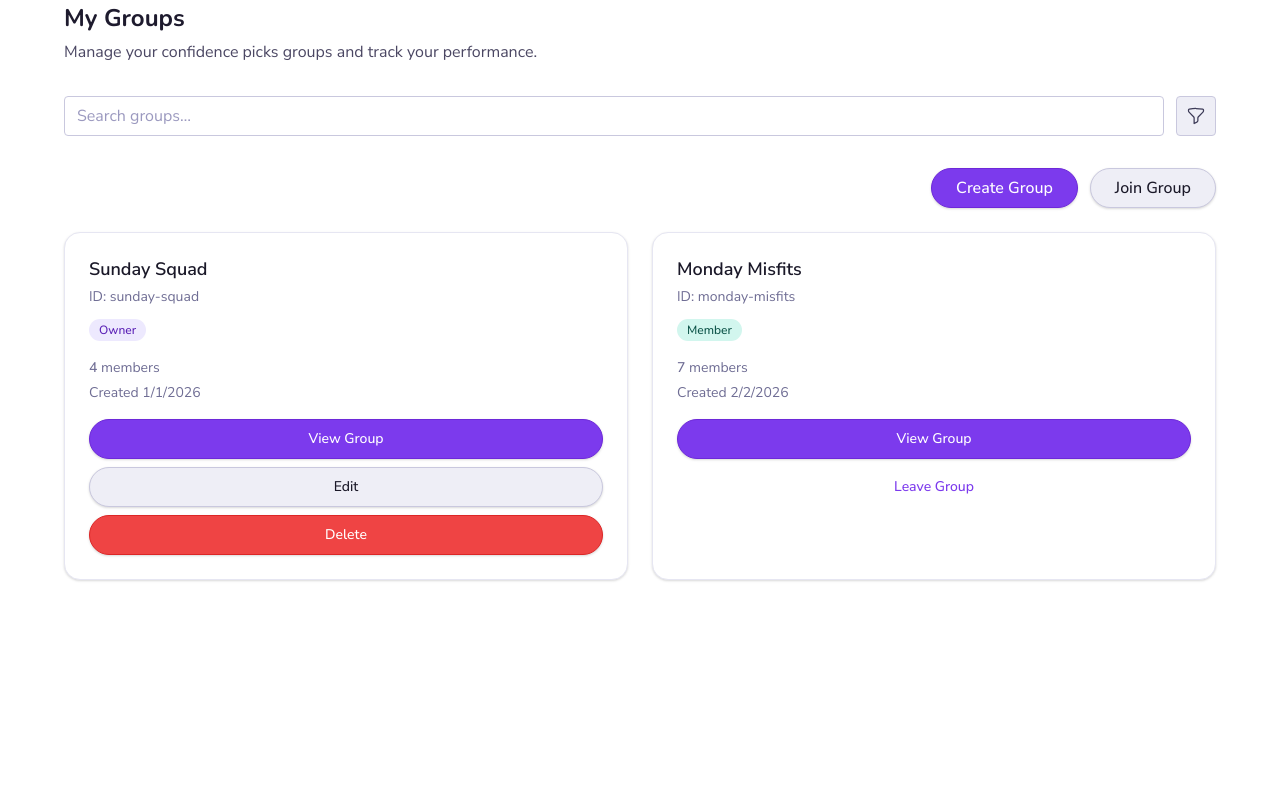
Test: GroupsPage › shows a no-matches message when filters exclude every group
Expected: the heading "Sunday Squad" is shown, x1=89 y1=257 x2=208 y2=281
What coordinates should you click on to do the following:
click the button named "filters"
I would click on:
 (1196, 116)
Its box is x1=1176 y1=96 x2=1216 y2=136.
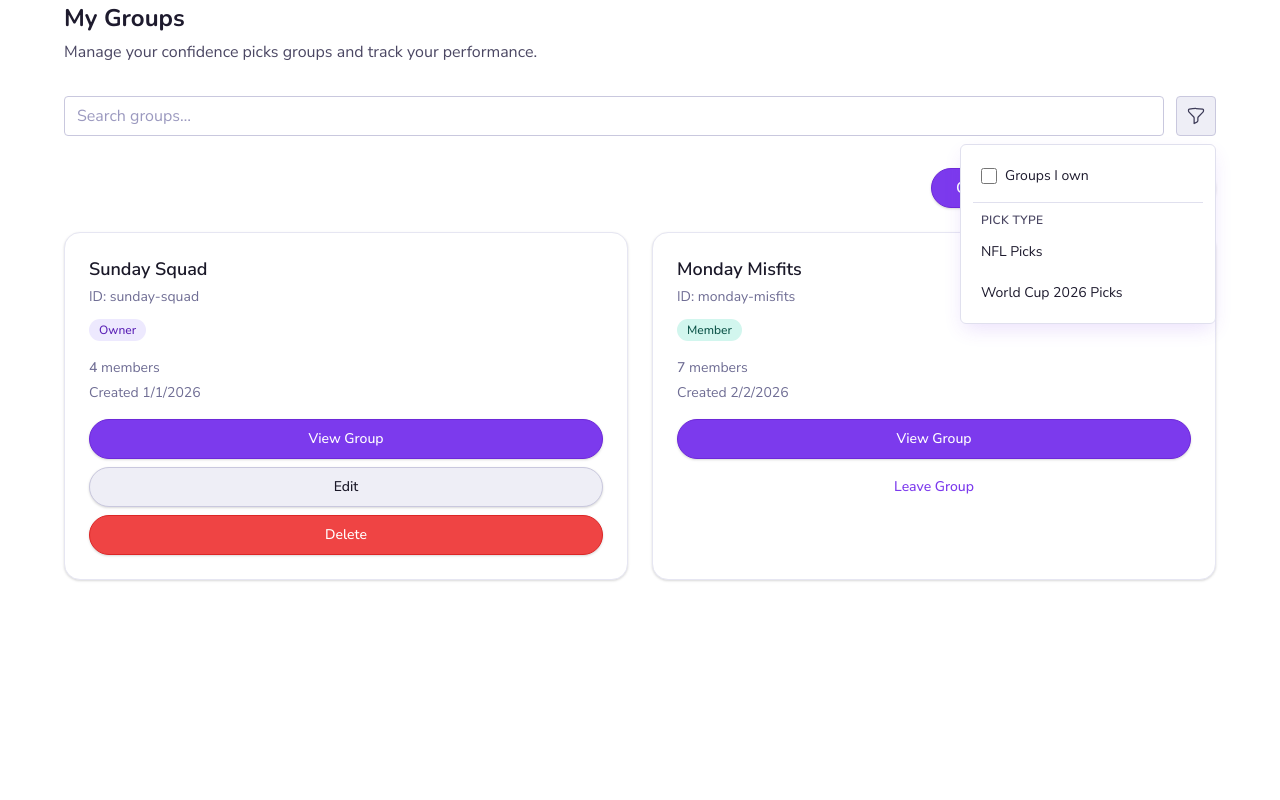
What coordinates should you click on to do the following:
click the radio button labelled "World Cup 2026 Picks"
I would click on:
 (1088, 292)
Its box is x1=973 y1=274 x2=1203 y2=311.
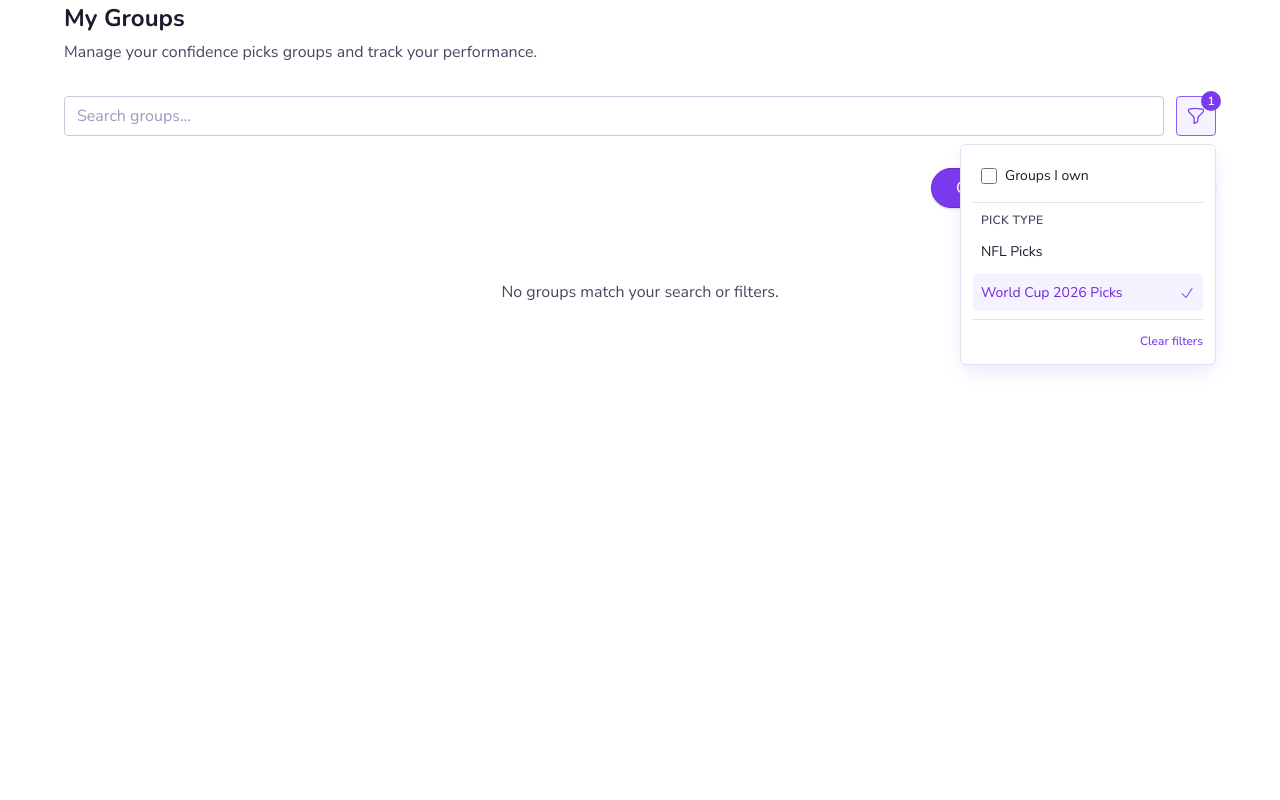
Expected: the button "Create Group" is shown, x1=931 y1=168 x2=1078 y2=208
Result: the text "No groups match your search or filters." is shown at x1=501 y1=281 x2=778 y2=303
Result: the heading "Sunday Squad" is gone
